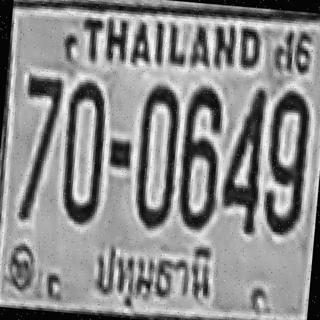N00: (54, 75, 111, 225), (131, 82, 181, 230)
N04: (218, 84, 272, 236)
N06: (175, 83, 227, 231)
N07: (14, 73, 63, 221)
N09: (260, 85, 315, 235)
P38: (87, 232, 216, 316)
